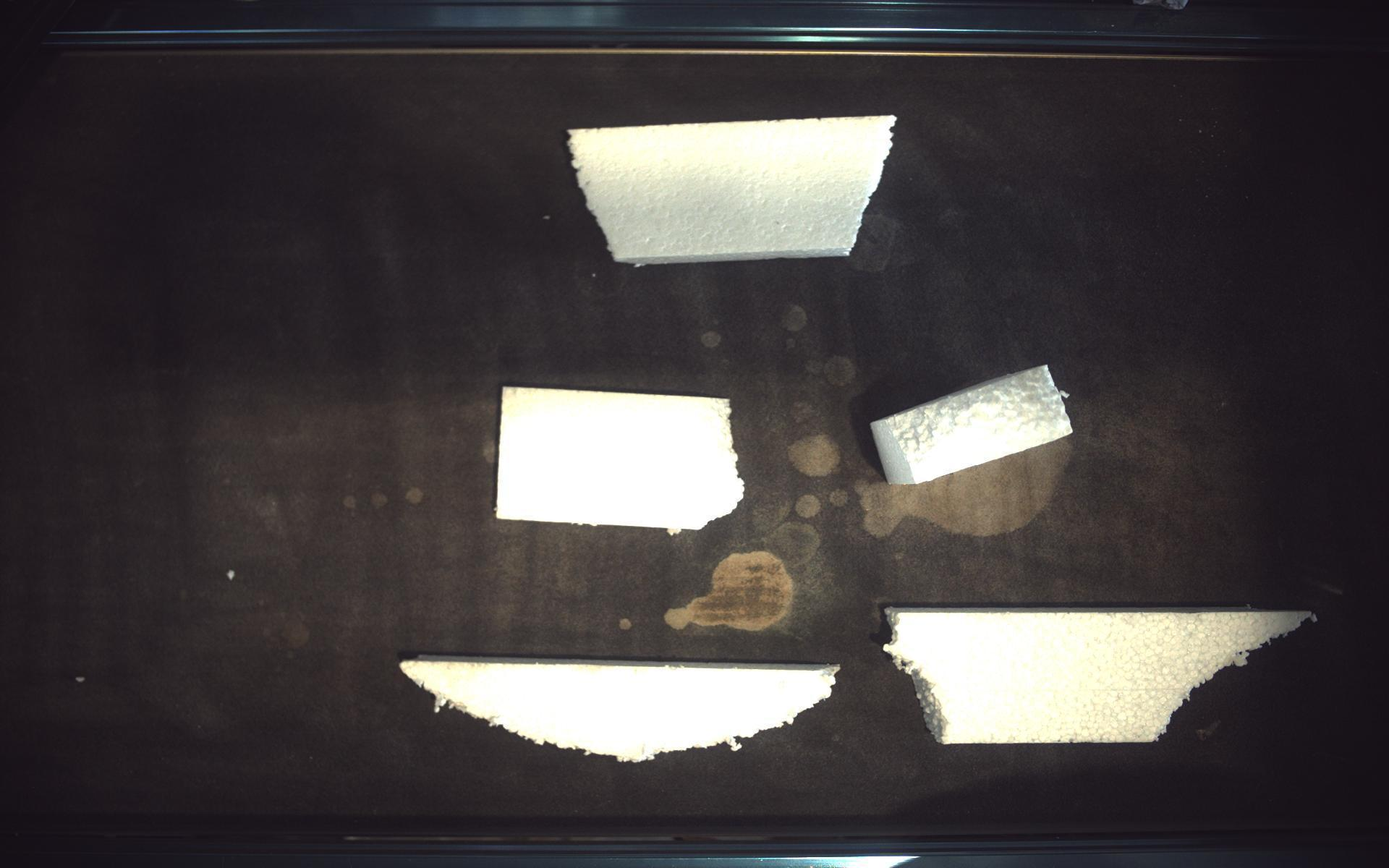foam: (885, 610, 1317, 745), (569, 116, 896, 264), (400, 658, 840, 763), (496, 387, 744, 529), (872, 365, 1074, 485)
